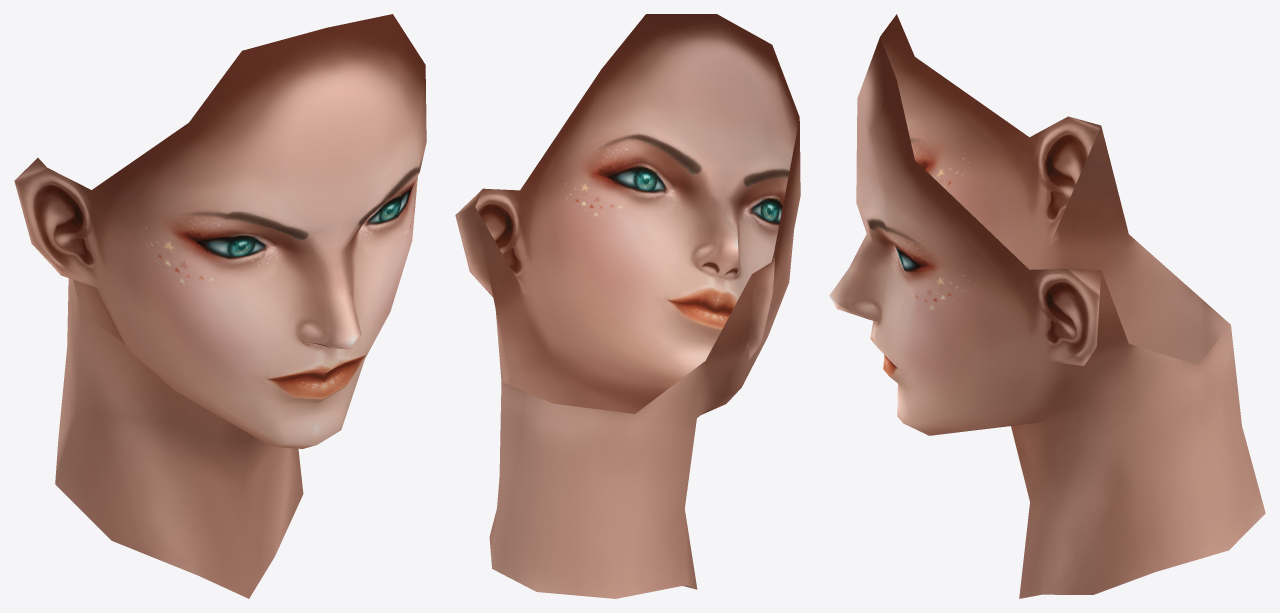
3 renders of one model, left to right at view 1: azimuth 30°, elevation 25°; view 2: azimuth 150°, elevation 25°; view 3: azimuth 270°, elevation 25°, orthographic. The views are drawn at different scales.
Parts seen in each view (by area): view 1: objFace; view 2: objFace; view 3: objFace.
Boxes of the visible parts, x1=… form: objFace: x1=14, y1=14, x2=426, y2=598; objFace: x1=455, y1=14, x2=800, y2=598; objFace: x1=829, y1=14, x2=1265, y2=598.
Bounding box in the file's own units: 7.29 × 11.54 × 8.12.
Materials: 1 (1 with a texture image).
